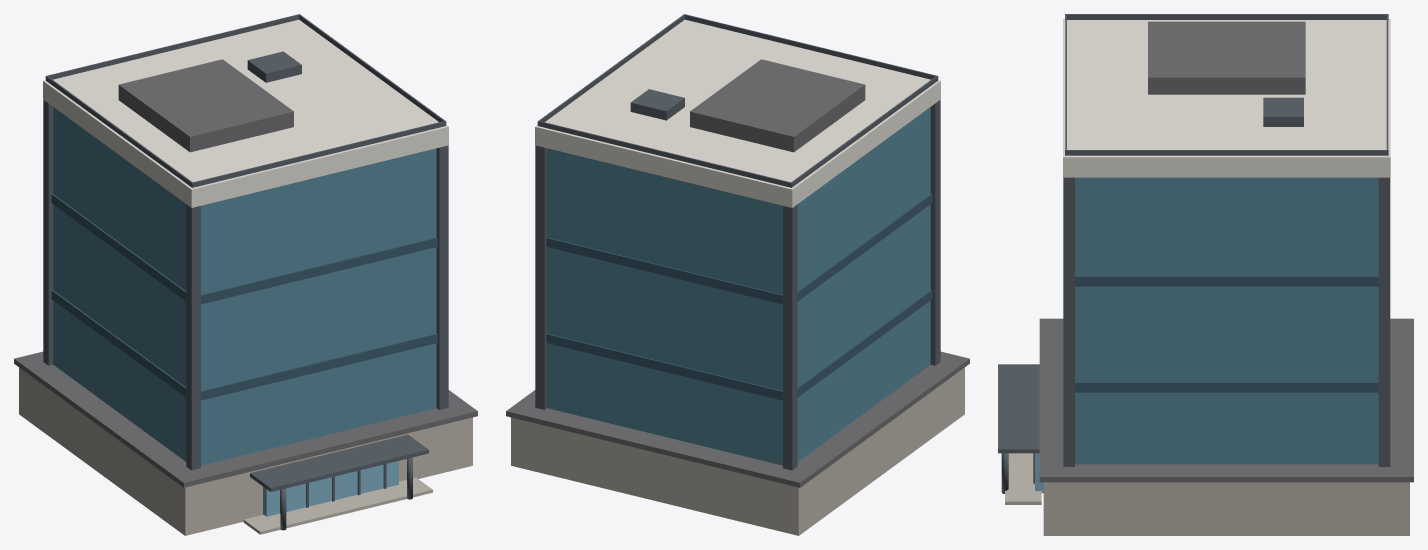
The model's file is office_tower_low.glb.
3 views of the same model, side by side, from view 1: azimuth 30°, elevation 25°; view 2: azimuth 150°, elevation 25°; view 3: azimuth 270°, elevation 25° (orthographic). The views are drawn at different scales.
Parts seen in each view (by area): view 1: office_shaft, office_crown, Merged_TowerMetal, Merged_RoofDark, Merged_TowerStone, Merged_TowerSpandrel, office_entrance; view 2: office_shaft, office_crown, Merged_TowerStone, Merged_RoofDark, Merged_TowerMetal, Merged_TowerSpandrel; view 3: office_shaft, office_crown, Merged_RoofDark, Merged_TowerStone, Merged_TowerMetal, Merged_TowerSpandrel.
Boxes of the visible parts, box(x1,y1,x2,y2) form: office_shaft: box(53, 107, 436, 465); office_crown: box(43, 19, 448, 207); Merged_TowerMetal: box(43, 14, 448, 530); Merged_RoofDark: box(14, 59, 477, 487); Merged_TowerStone: box(19, 367, 472, 535); Merged_TowerSpandrel: box(51, 194, 437, 400); office_entrance: box(263, 461, 398, 516); office_shaft: box(547, 107, 930, 465); office_crown: box(535, 19, 940, 207); Merged_TowerStone: box(511, 367, 964, 535); Merged_RoofDark: box(506, 59, 969, 487); Merged_TowerMetal: box(535, 14, 940, 470); Merged_TowerSpandrel: box(546, 194, 932, 400); office_shaft: box(1075, 177, 1378, 464); office_crown: box(1063, 19, 1390, 177); Merged_RoofDark: box(1039, 21, 1413, 482); Merged_TowerStone: box(1005, 453, 1409, 535); Merged_TowerMetal: box(998, 14, 1390, 493); Merged_TowerSpandrel: box(1075, 276, 1378, 392).
Size of the model in its own units: 36.8 by 42.05 by 40.9.
